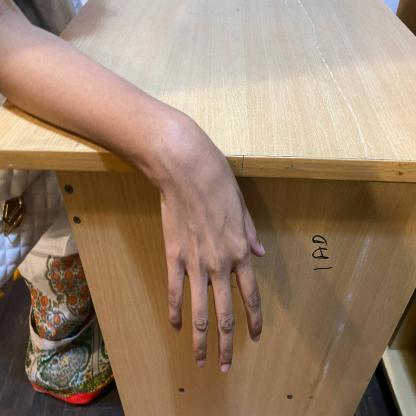hand: (0, 0, 276, 380)
